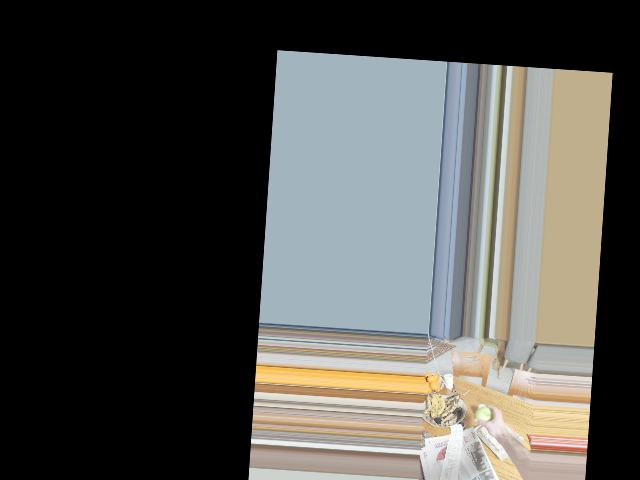apple: (473, 405, 497, 427)
